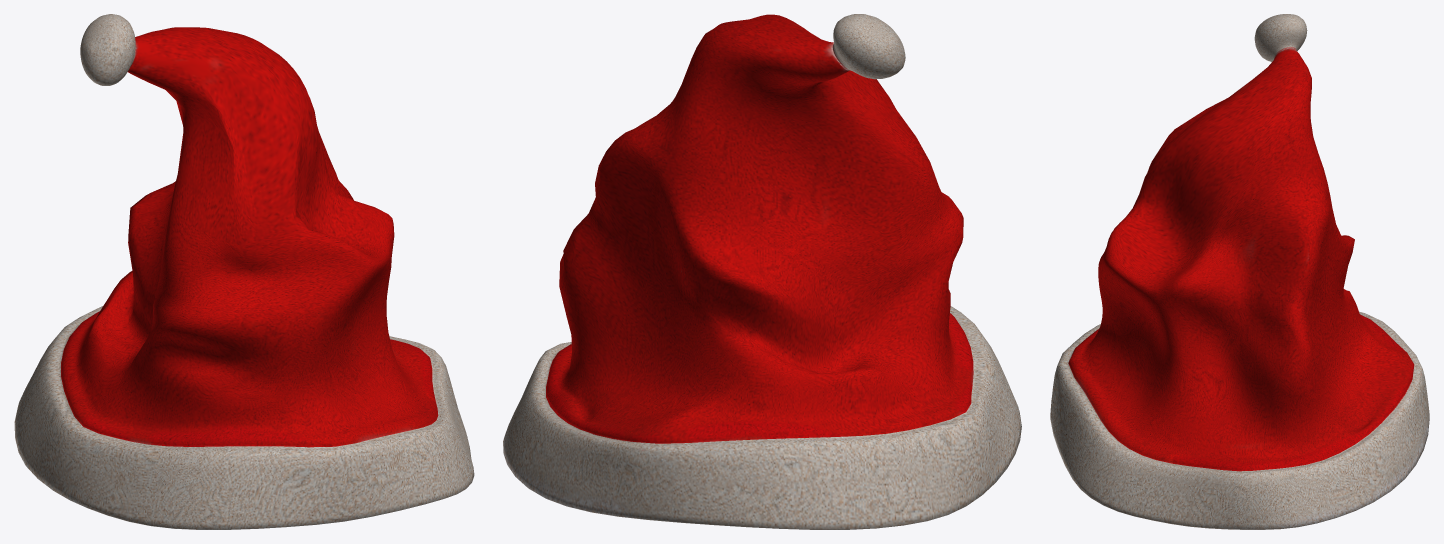
File: santa.glb
3 renders of one model, left to right at view 1: azimuth 30°, elevation 25°; view 2: azimuth 150°, elevation 25°; view 3: azimuth 270°, elevation 25°, orthographic. The views are drawn at different scales.
Parts seen in each view (by area): view 1: Cone; view 2: Cone; view 3: Cone.
Boxes of the visible parts, left/top/right/bottom form: Cone: left=14, top=14, right=474, bottom=529; Cone: left=503, top=14, right=1021, bottom=529; Cone: left=1050, top=14, right=1429, bottom=529.
Bounding box in the file's own units: 1.87 × 2.03 × 1.79.
1 material, 1 textured.
